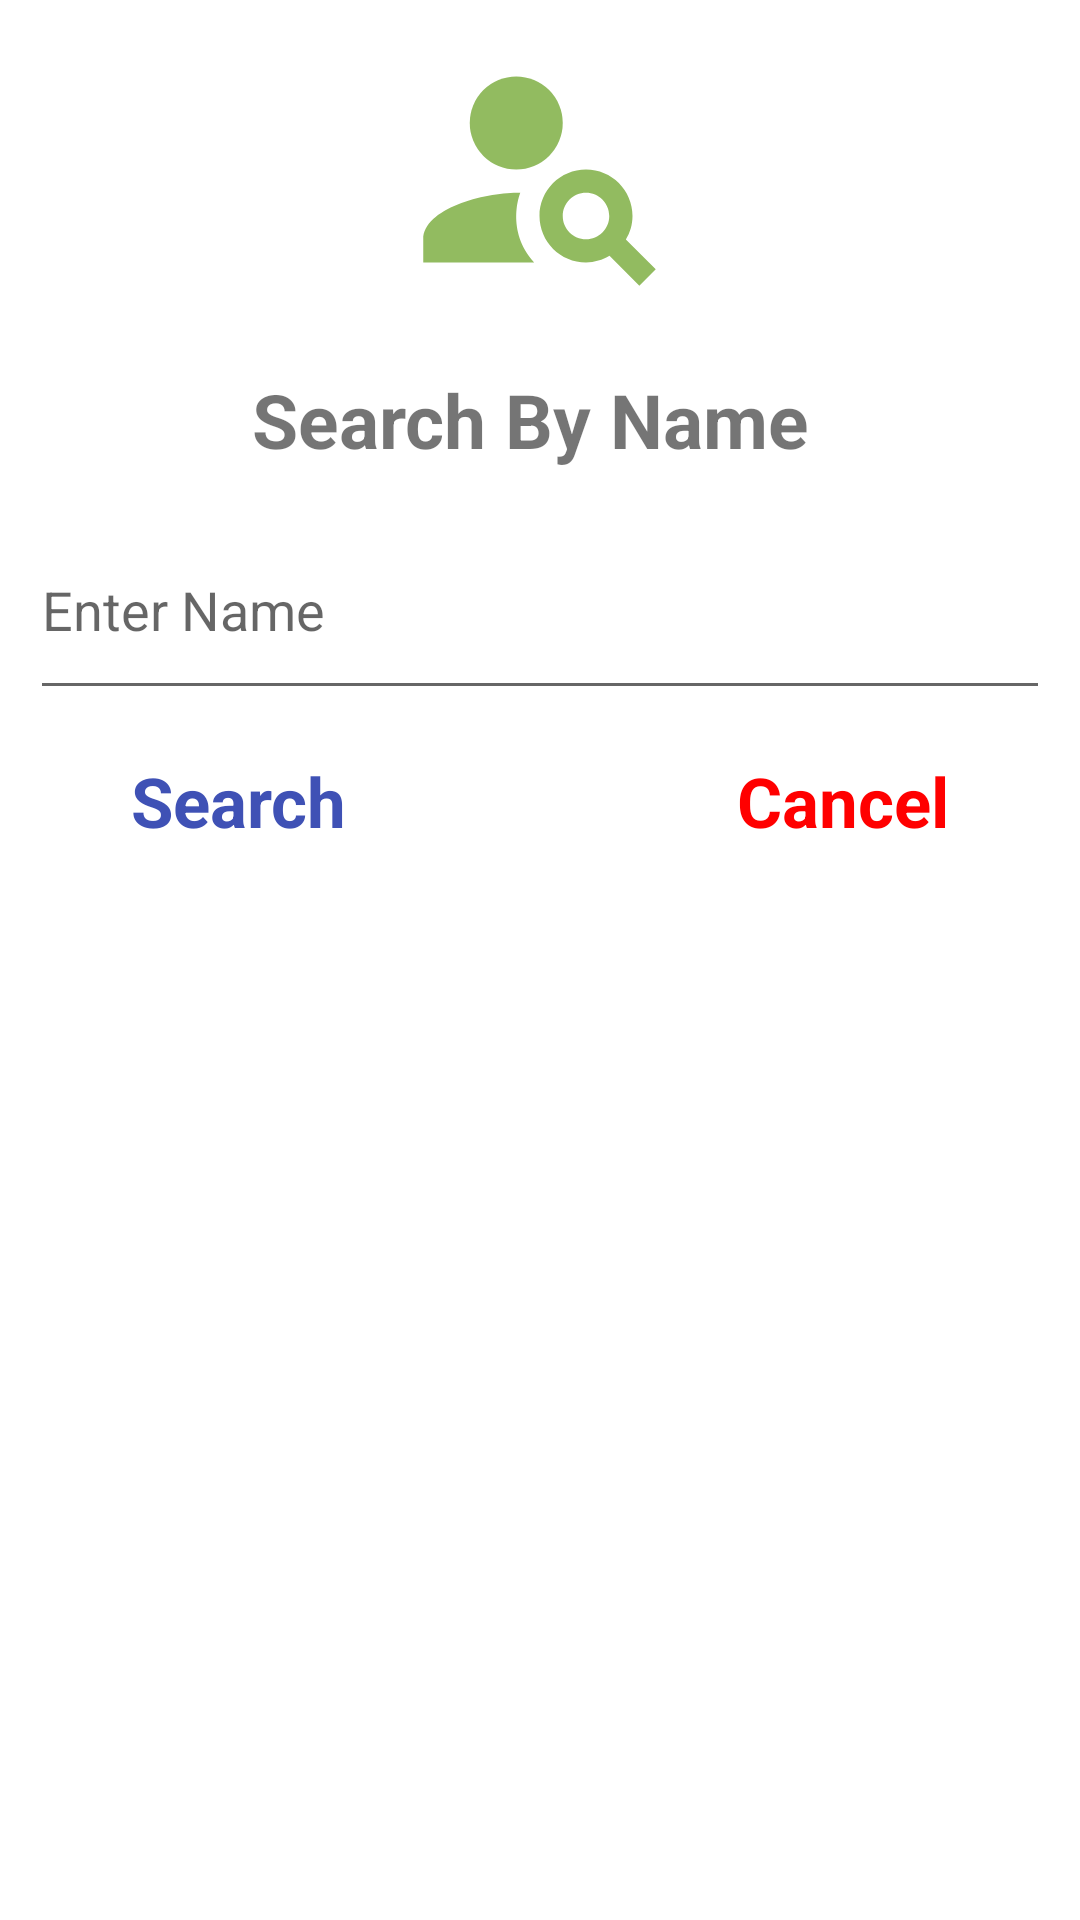

Where to tap for icons on this 1080px x 1920px app screen, as (x=x, y=y):
person search: (x=539, y=181)
